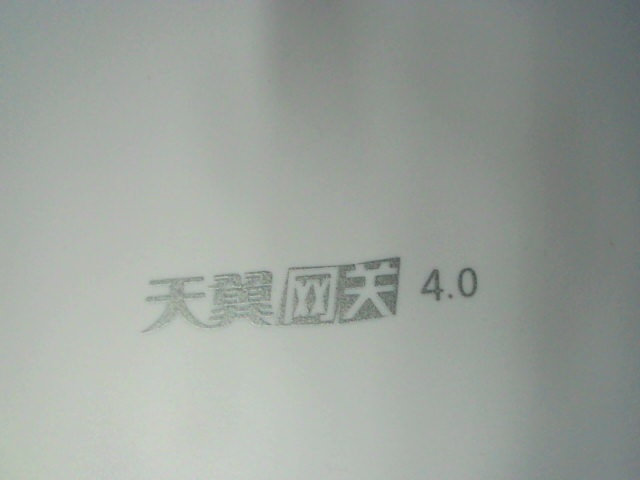BM_TianYiWangGuan: (129, 251, 495, 337)
